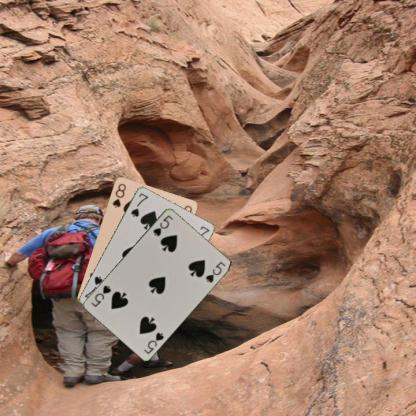5s: (141, 330, 165, 356), (150, 212, 174, 237)
7s: (128, 190, 150, 218)
8s: (110, 180, 127, 209)
